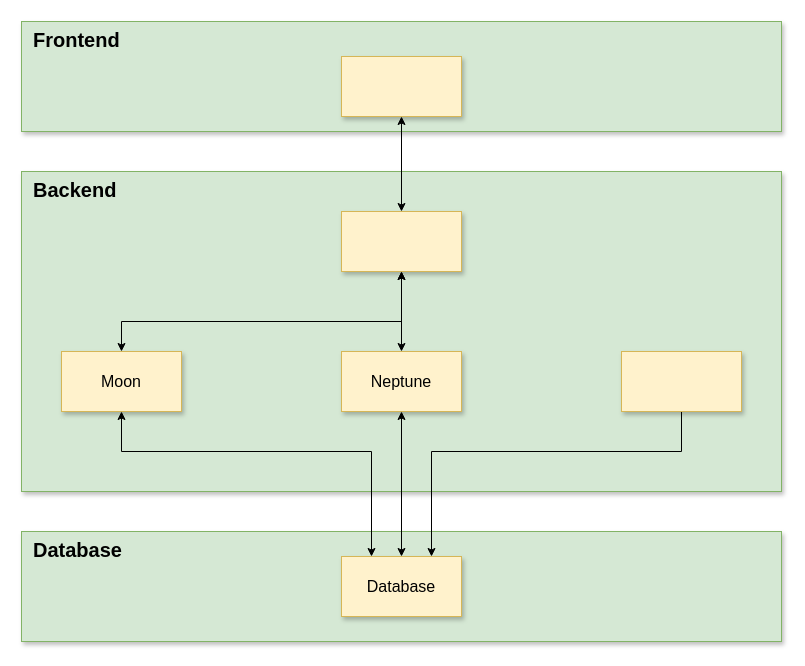
Image size: 805x666. Some labels were removed from this diagram. The shapes that lost their labels are listed below. From the top down, each one's centre as x and y in pixels, then its label:
the point at 402,88: Earth
the point at 402,242: Star
the point at 682,382: Mercury
